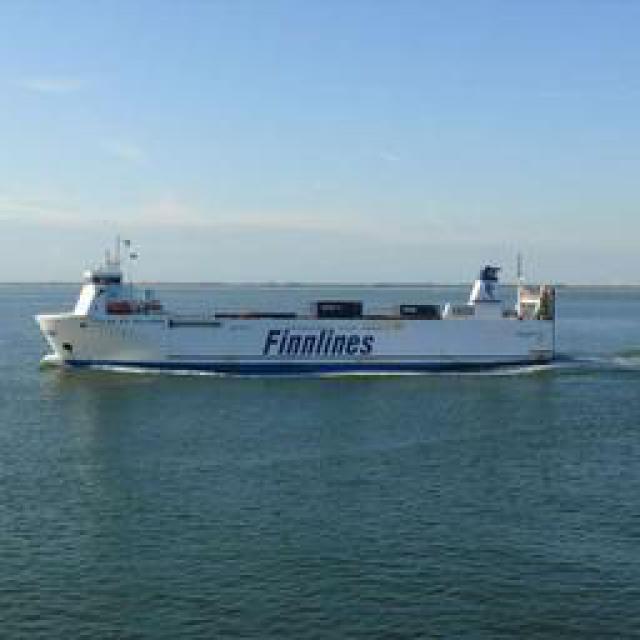Ship: (49, 258, 572, 376)
